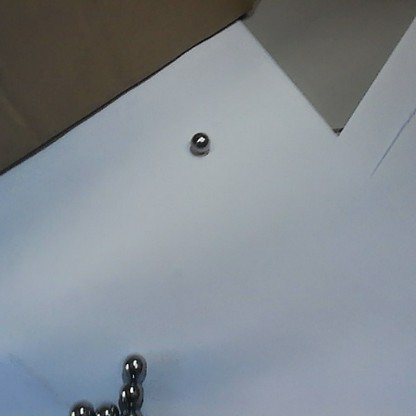ironball: (118, 349, 149, 384), (113, 380, 146, 407), (188, 130, 209, 155), (66, 398, 93, 415), (93, 399, 118, 414), (120, 404, 145, 414)
